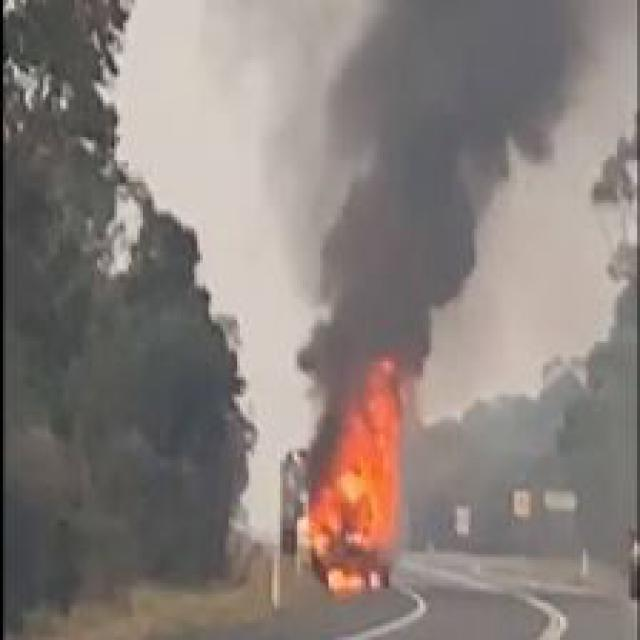fire: (297, 317, 420, 606)
